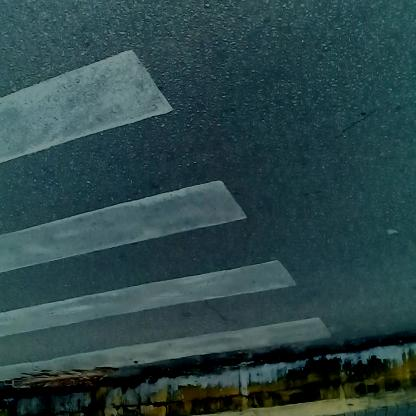crosswalk: (1, 43, 337, 347)
sidewalk: (3, 371, 412, 413)
